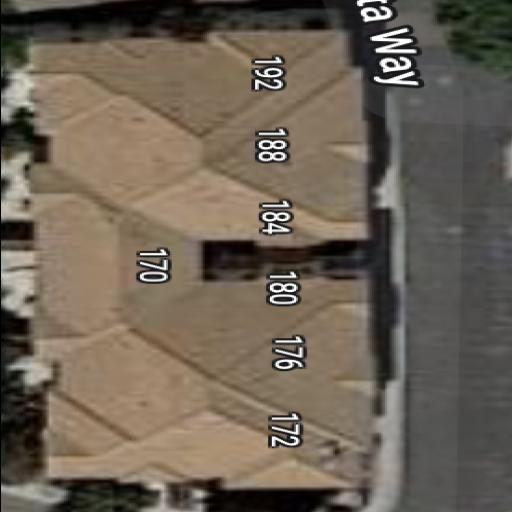Slope-Roof: (29, 32, 370, 486)
